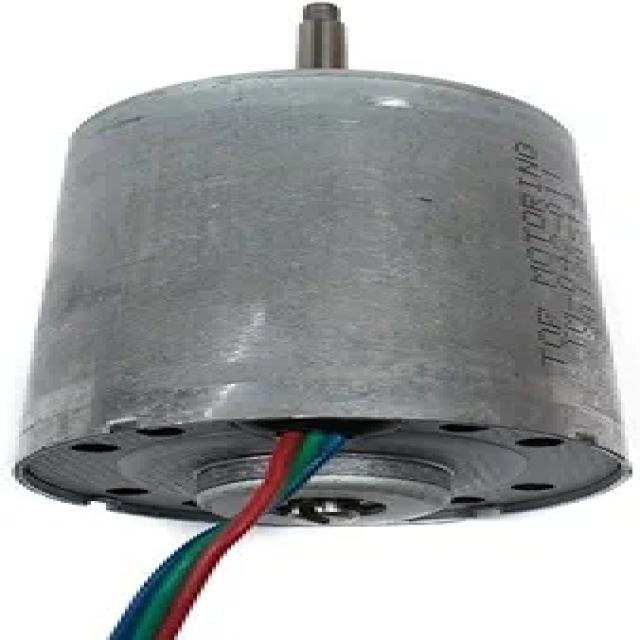motor: (8, 66, 632, 611)
